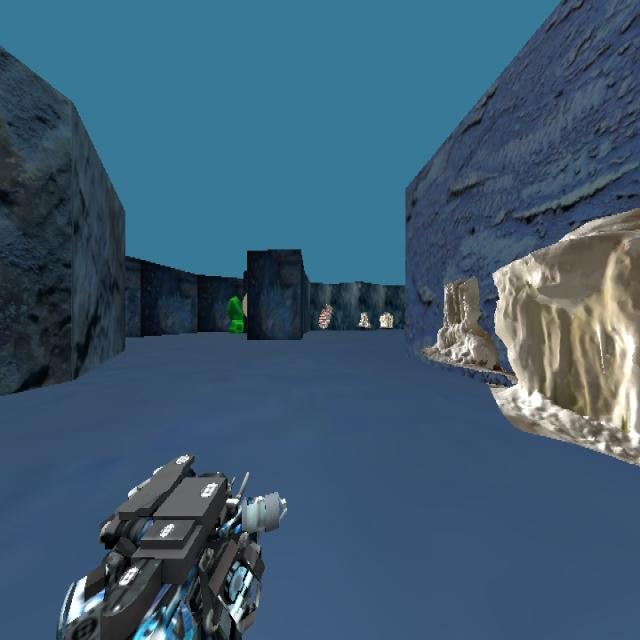Diamon: (226, 295, 244, 333)
Ice: (491, 237, 640, 459), (425, 259, 489, 387)
